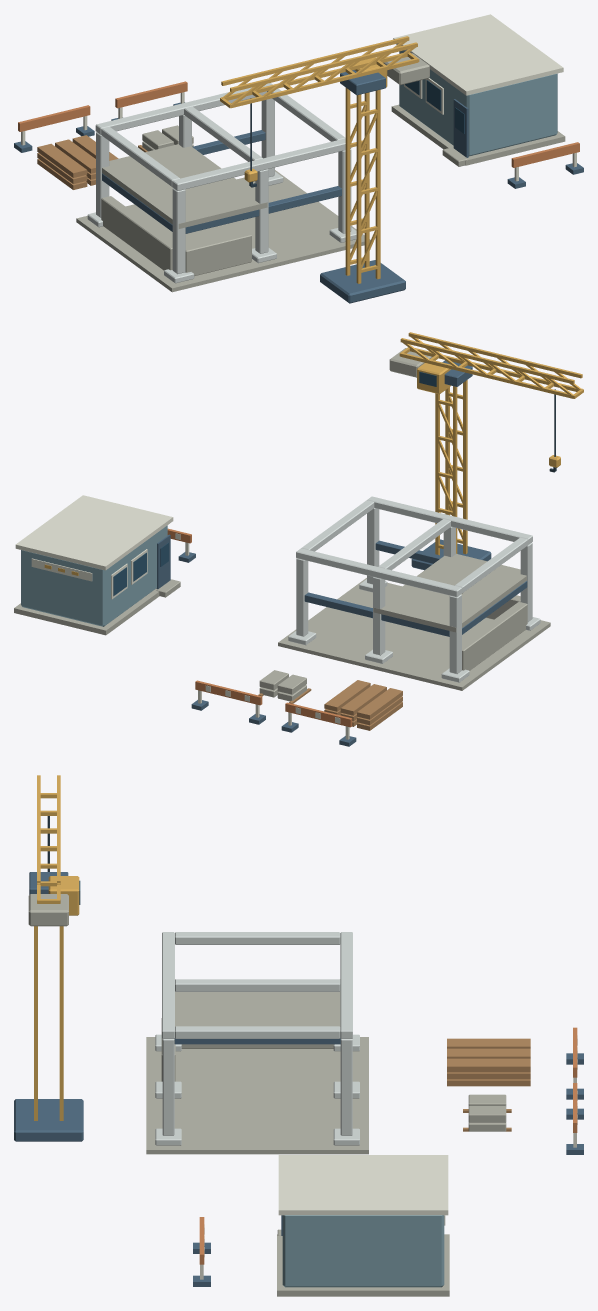
The model's file is campus_construction_decor_v01.glb.
3 views of the same model, one above another, from view 1: azimuth 30°, elevation 25°; view 2: azimuth 150°, elevation 25°; view 3: azimuth 270°, elevation 25° (orthographic). The views are drawn at different scales.
Visible parts, largest first — view 1: Construction district decor; view 2: Construction district decor; view 3: Construction district decor.
Part boxes in pixels (box(x1,y1,x2,y2)): Construction district decor: box(14, 14, 583, 303); Construction district decor: box(14, 332, 583, 746); Construction district decor: box(14, 775, 583, 1296).
Bounding box in the file's own units: 21.7 × 10.83 × 20.47.
1 material, 1 textured.
